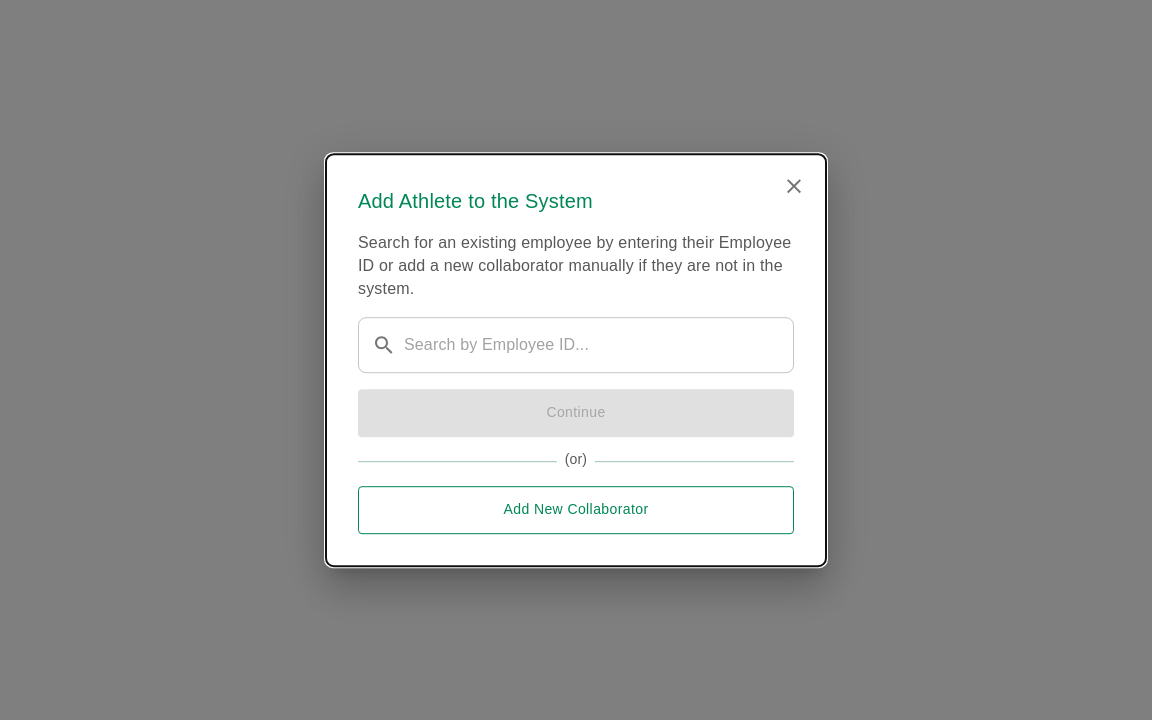
Scenario: UserCreation › shows no results found for empty data
The width and height of the screenshot is (1152, 720).
In the field with placeholder "Search by Employee ID...": (592, 345) [404, 317, 780, 373], type "ZZZ"
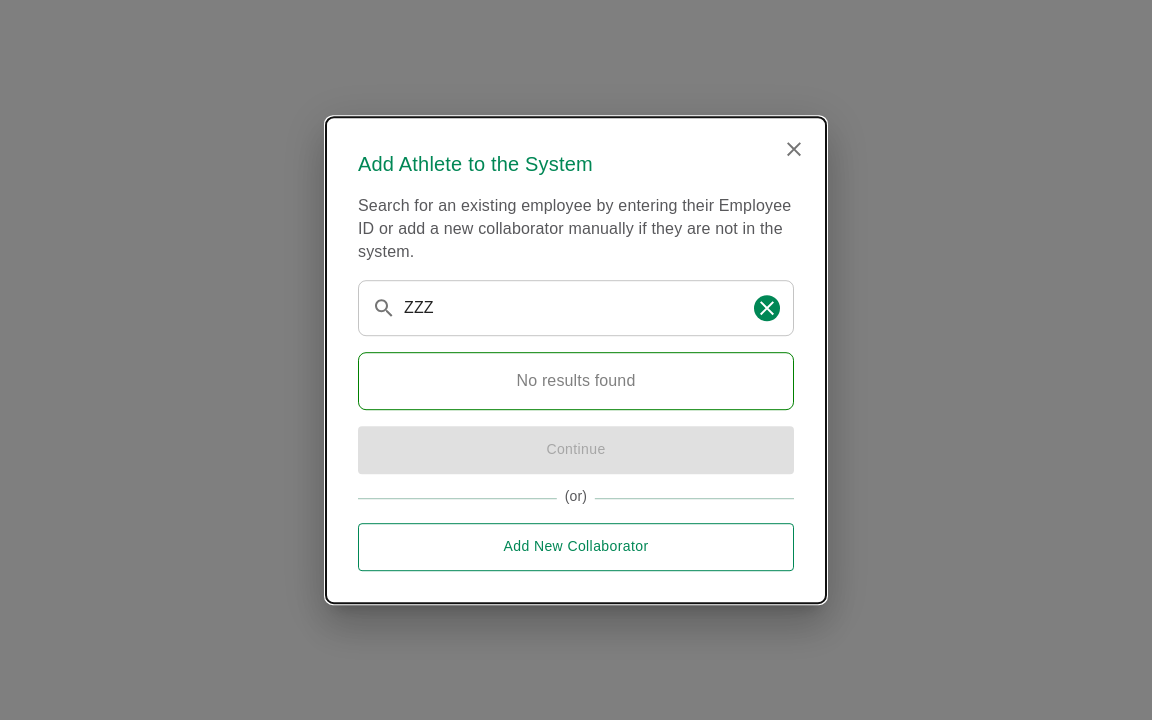
Check: the list item "No results found" is shown, box [516, 372, 635, 389]
